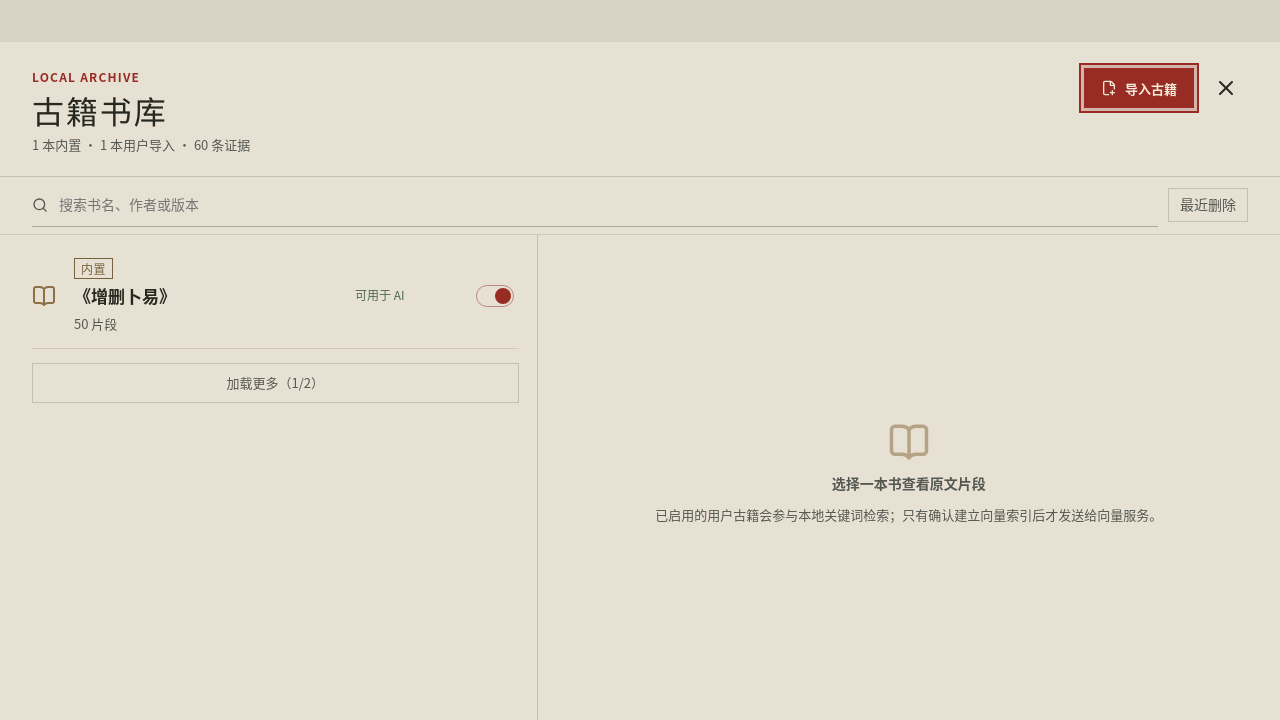
Test: CorpusLibraryPanel 古籍书库 › 书籍超过单页上限时可以继续加载而不限制书库总量
Click the button "加载更多（1/2）".
click(275, 384)  # box [32,364,519,404]
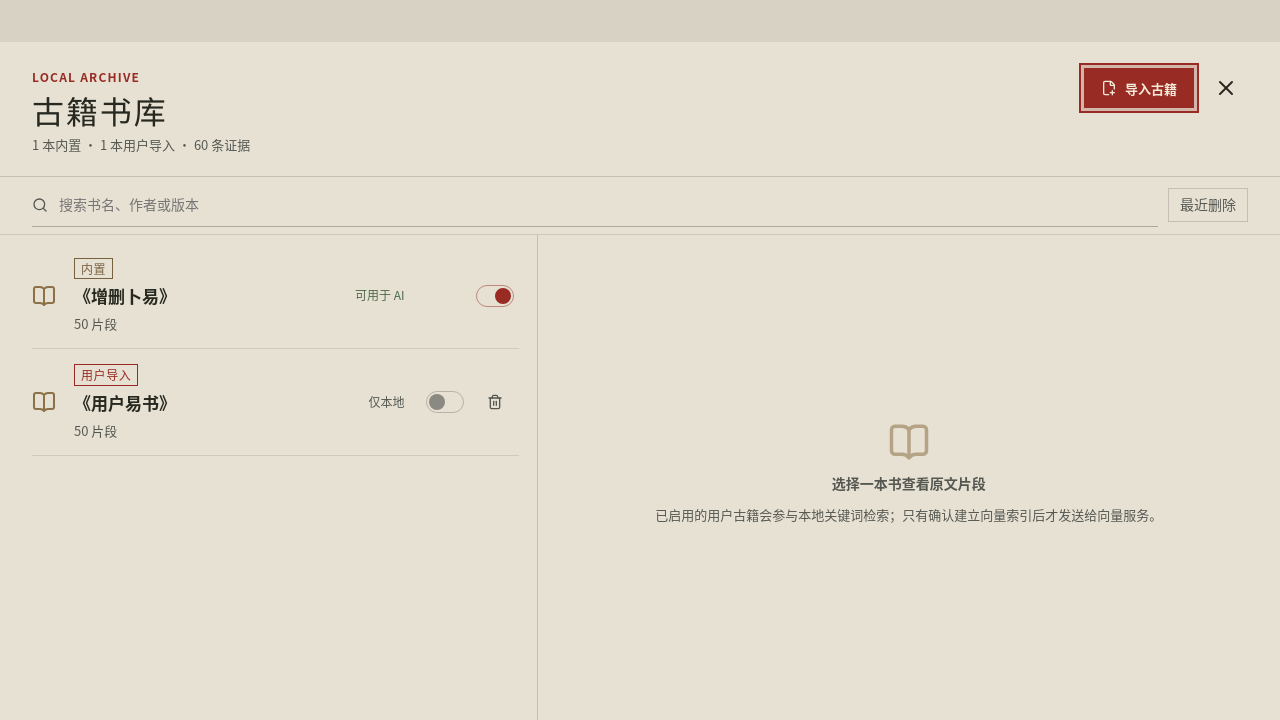
Expected: the text "《用户易书》" is shown, [74,390,176,415]
